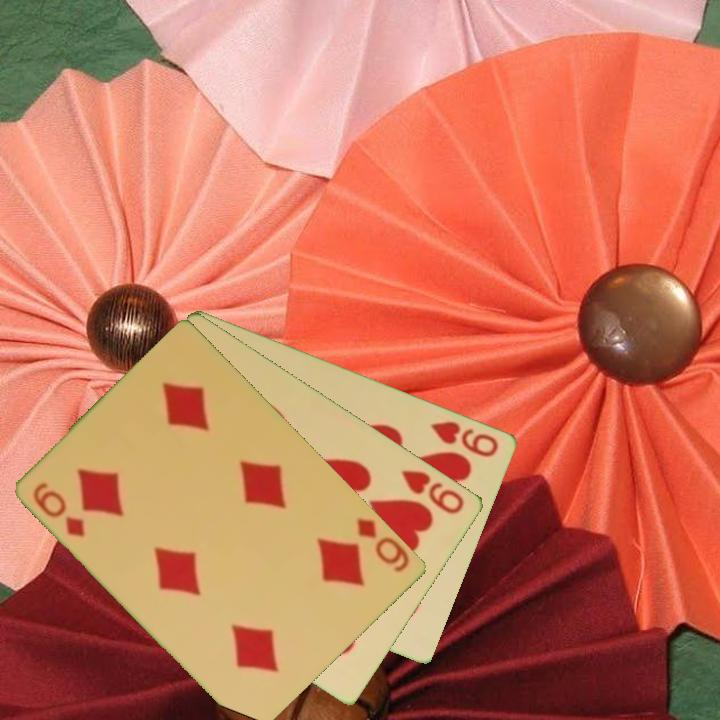6d: (353, 514, 413, 575), (30, 479, 89, 540)
9h: (397, 466, 468, 517), (428, 417, 502, 460)
